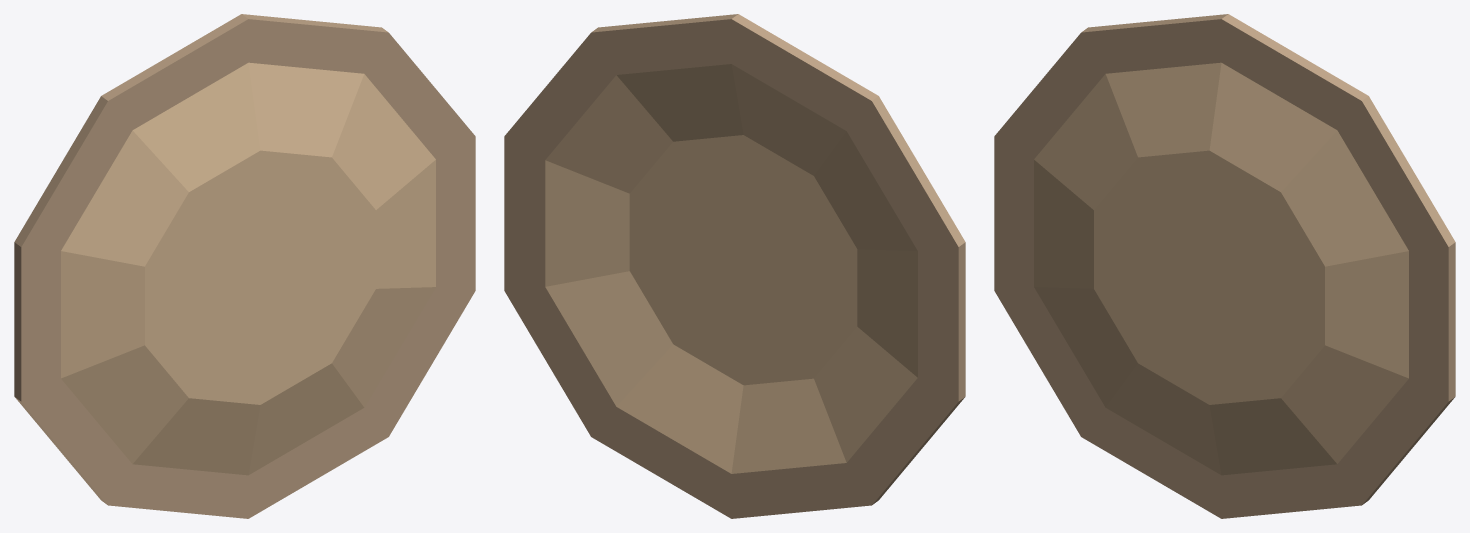
The model's file is PeltastShield.fbx.
3 views of the same model, side by side, from view 1: azimuth 30°, elevation 25°; view 2: azimuth 150°, elevation 25°; view 3: azimuth 330°, elevation 25° (orthographic).
Parts seen in each view (by area): view 1: PeltastShield; view 2: PeltastShield; view 3: PeltastShield.
Boxes of the visible parts, box(x1,y1,x2,y2) form: PeltastShield: box(14, 14, 475, 518); PeltastShield: box(504, 14, 965, 518); PeltastShield: box(994, 14, 1455, 518).
Bounding box in the file's own units: 113 × 119 × 8.17.
